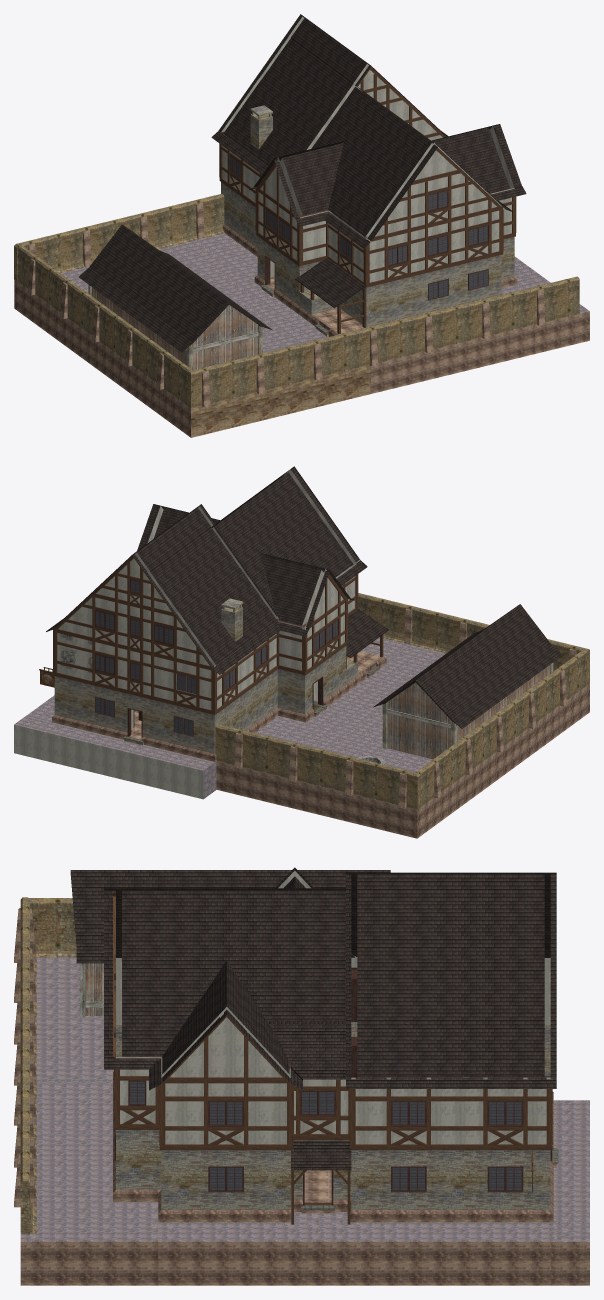
File: buildings_large_tavernbig.glb
3 views of the same model, one above another, from view 1: azimuth 30°, elevation 25°; view 2: azimuth 150°, elevation 25°; view 3: azimuth 270°, elevation 25° (orthographic). The views are drawn at different scales.
Visible parts, largest first — view 1: tavernbig; view 2: tavernbig; view 3: tavernbig.
Boxes of the visible parts, box(x1,y1,x2,y2) form: tavernbig: box(14, 14, 589, 437); tavernbig: box(14, 466, 589, 838); tavernbig: box(14, 867, 589, 1285).
Size of the model in its own units: 57.62 by 32.88 by 47.69.
28 materials, 28 textured.
